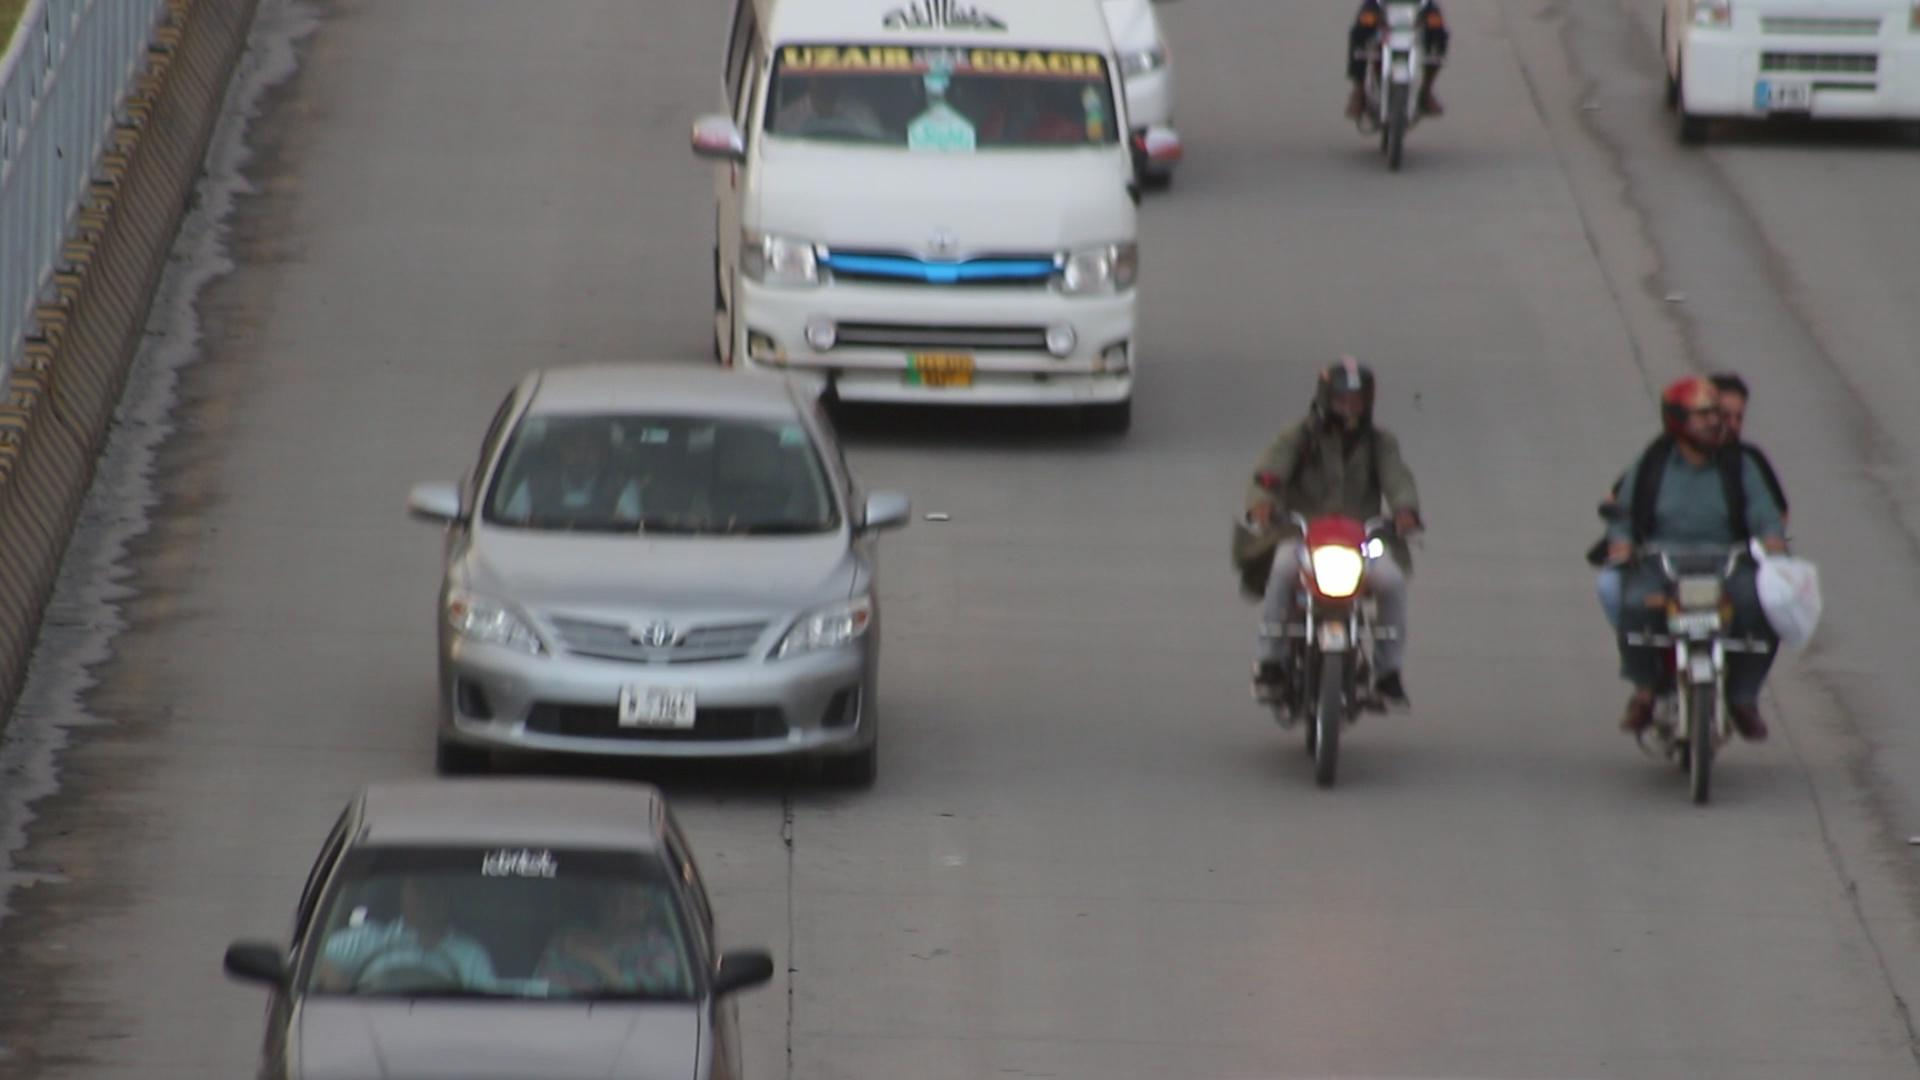windshield: (301, 829, 713, 1006), (467, 390, 855, 537), (754, 30, 1124, 153)
